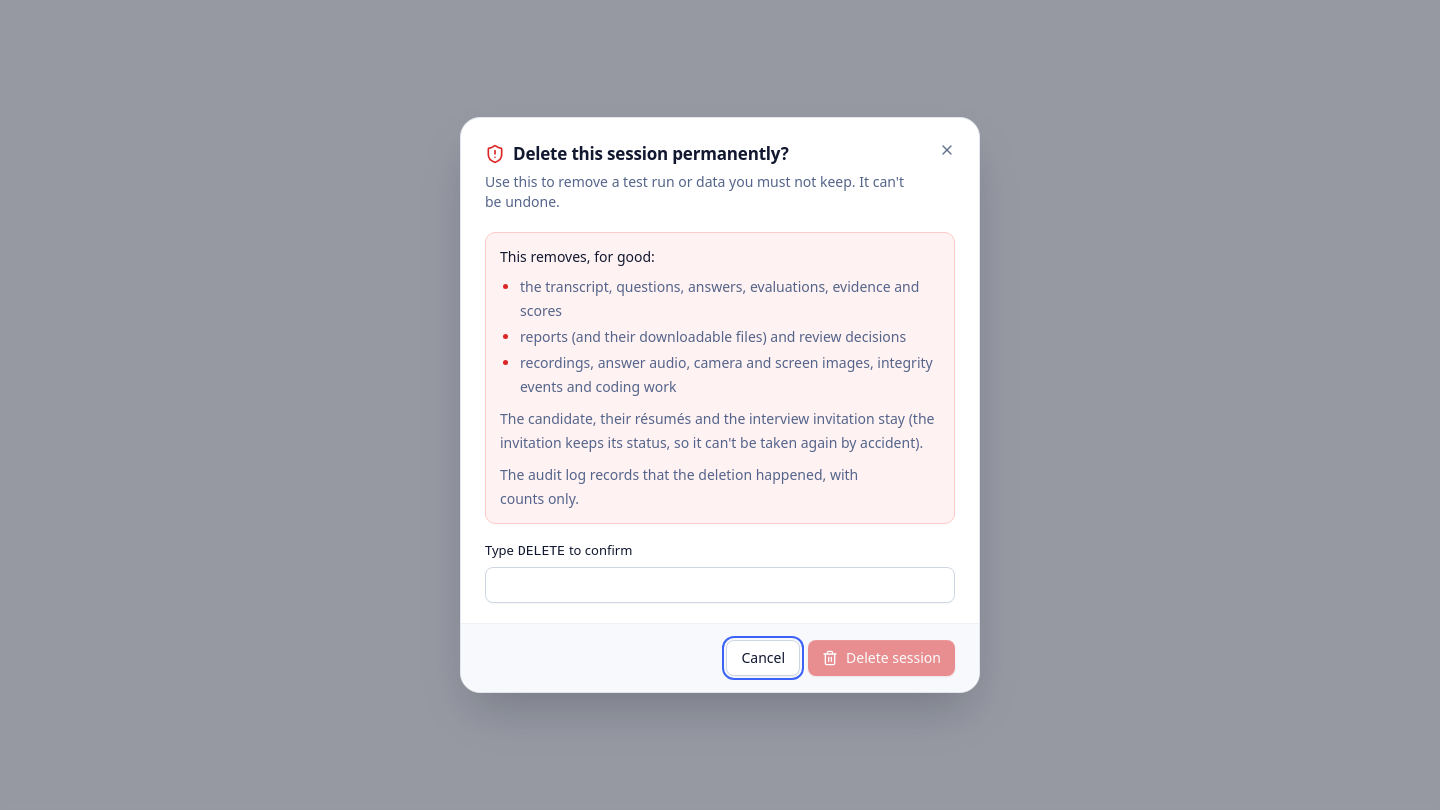
Test: delete session dialog › asks for DELETE without a candidate name and explains a busy session
The image size is (1440, 810).
In the field labelled "Type DELETE to confirm": point(720, 585) x1=485 y1=567 x2=955 y2=603, type "delete"
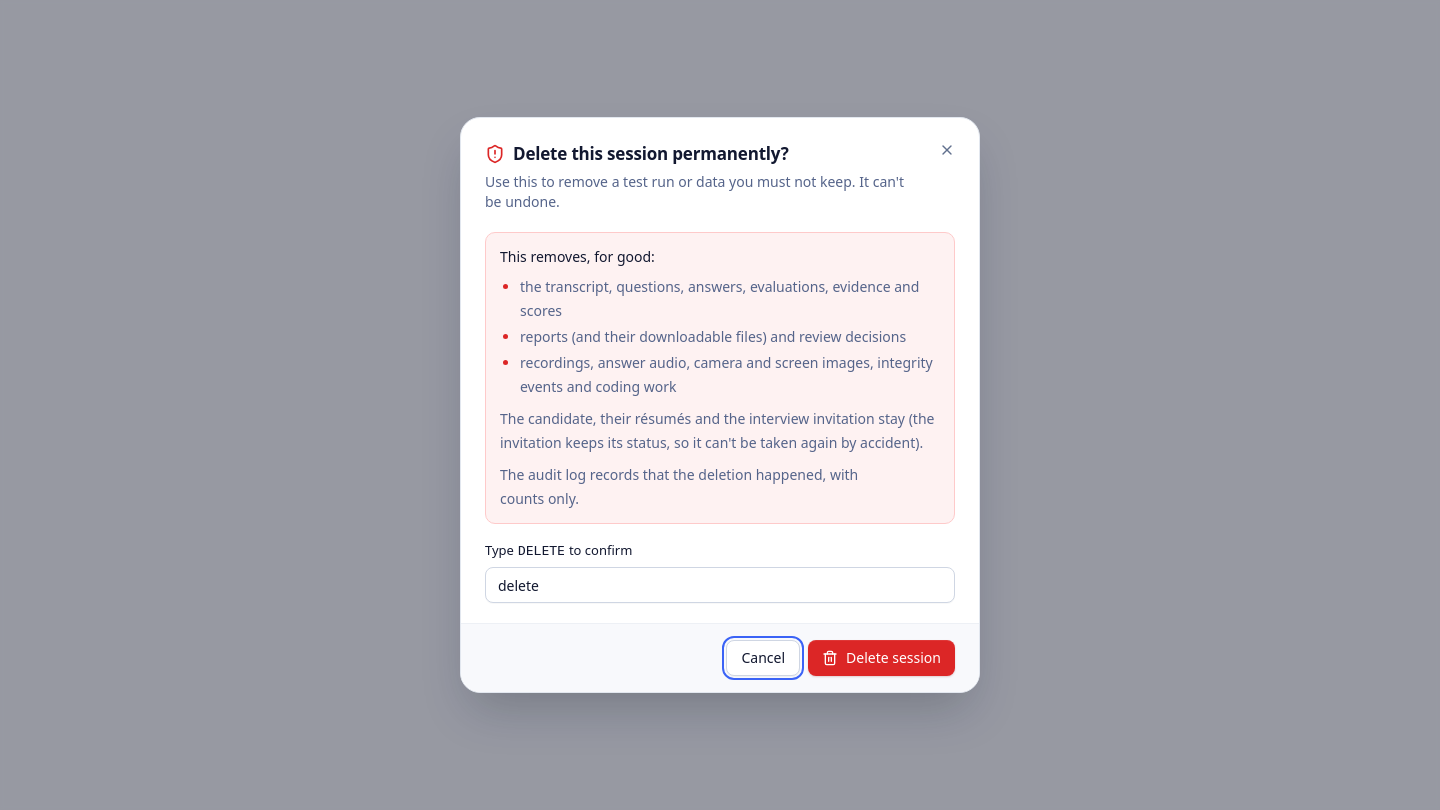
Click the button "Delete session": point(882, 658) x1=808 y1=640 x2=955 y2=676
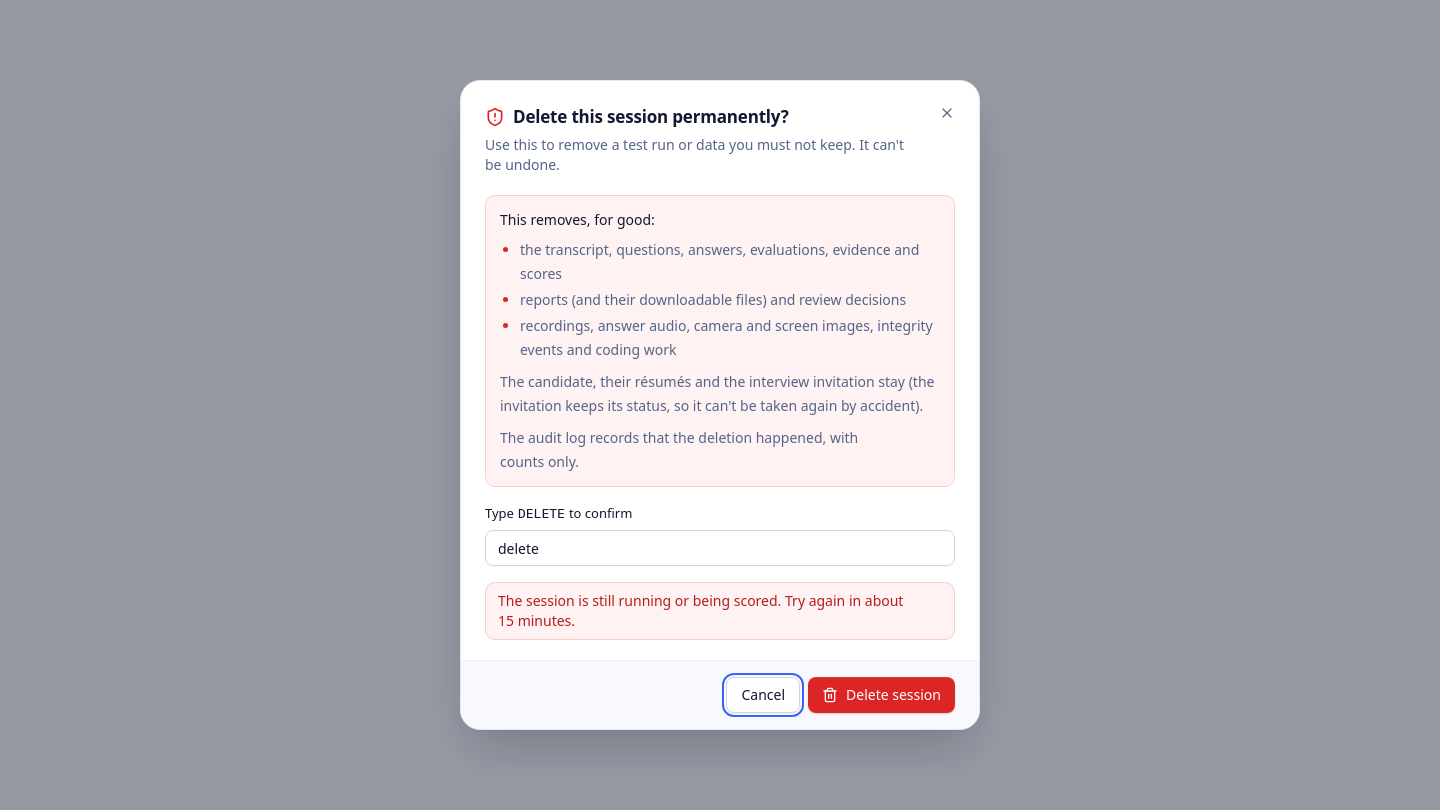
Result: the message shows "Try again in about 15 minutes" at x1=498 y1=591 x2=903 y2=630
